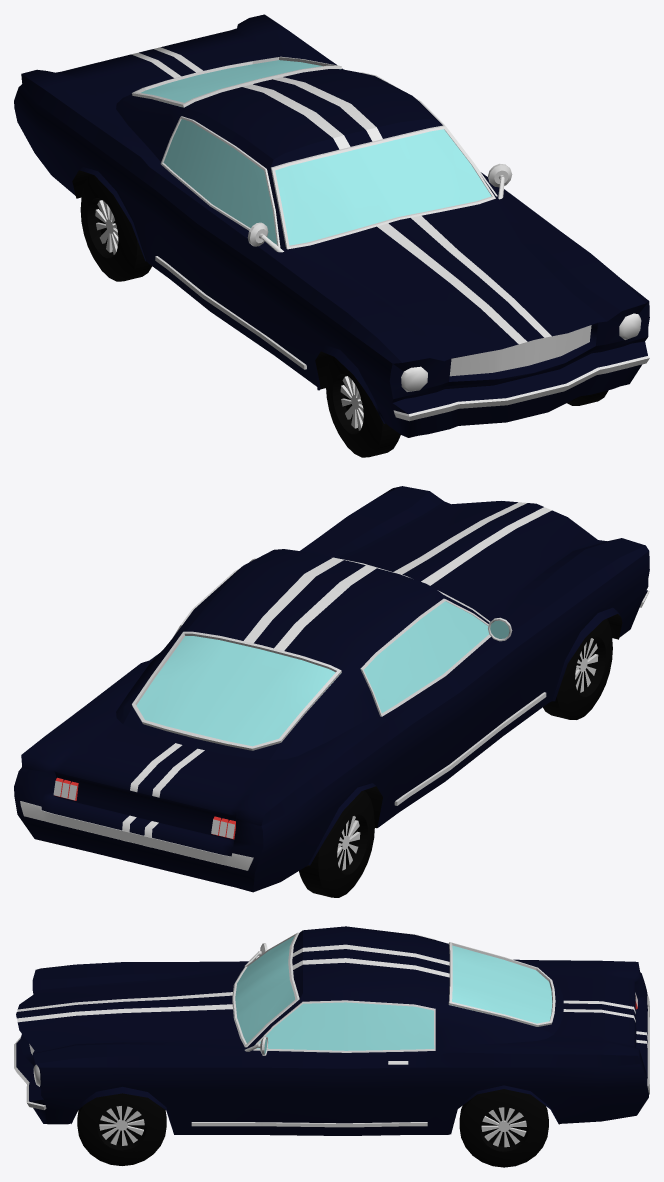
Rendered from car 1.0.fbx.
3 views of the same model, one above another, from view 1: azimuth 30°, elevation 25°; view 2: azimuth 150°, elevation 25°; view 3: azimuth 270°, elevation 25° (orthographic). The views are drawn at different scales.
Parts seen in each view (by area): view 1: body, RR, FR; view 2: body, RR, FR; view 3: body, RL, FL.
Boxes of the visible parts, x1,y1,x2,y2 form: body: [14, 14, 649, 437]; RR: [80, 174, 151, 281]; FR: [326, 356, 400, 457]; body: [14, 486, 649, 892]; RR: [299, 790, 374, 897]; FR: [543, 618, 612, 719]; body: [14, 926, 649, 1135]; RL: [459, 1089, 548, 1167]; FL: [77, 1093, 166, 1165].
Size of the model in its own units: 131 by 338 by 98.84.
